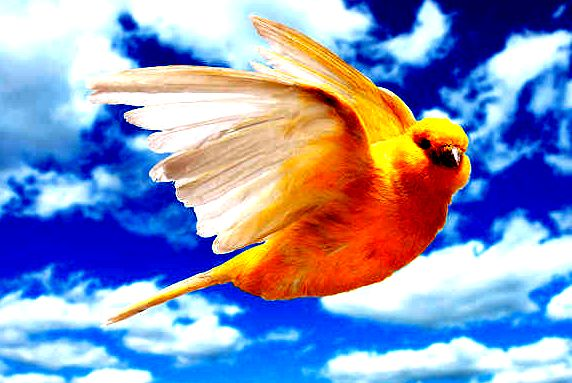Bird: (79, 8, 475, 329)
